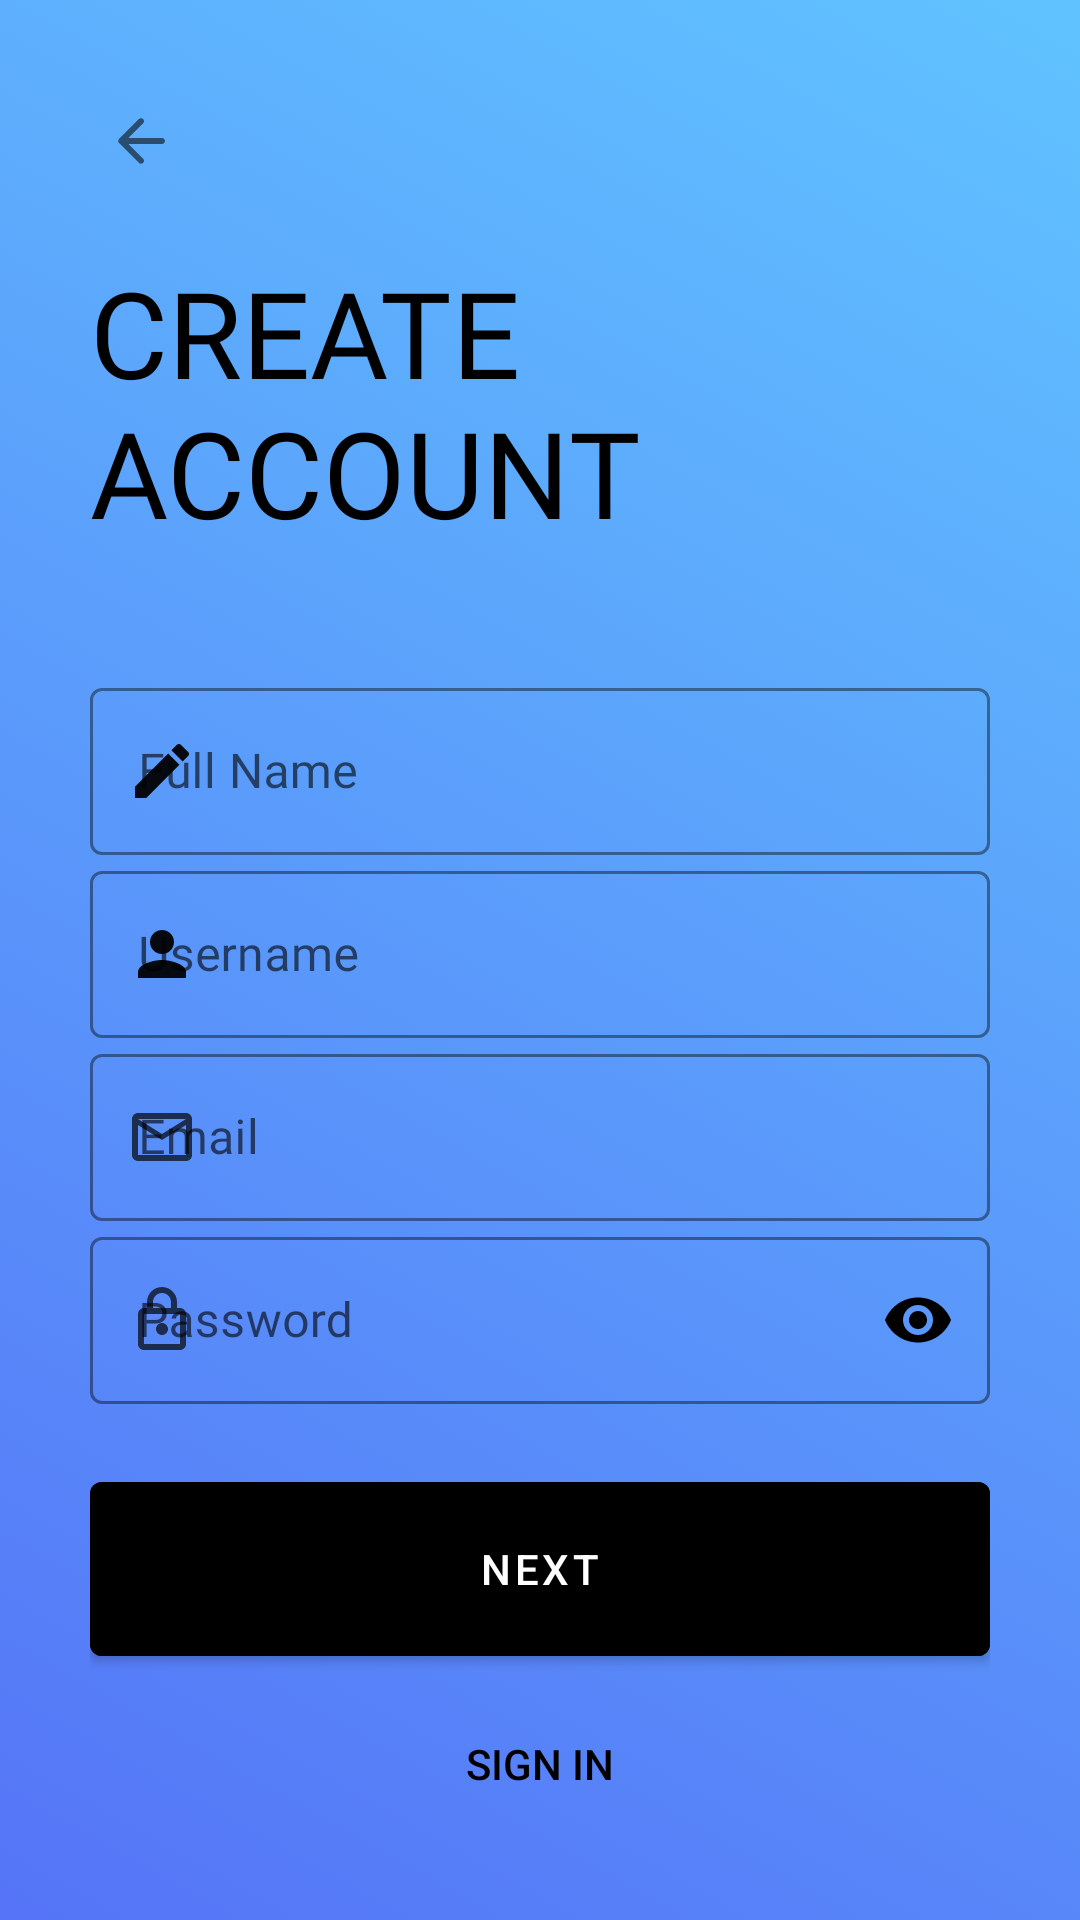

Point at icon controls on the screen. Image size 1080×1920, points as (x=x, y=y).
back: (x=141, y=141)
